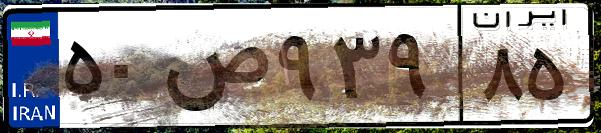0: (110, 28, 158, 98)
3: (330, 28, 385, 110)
5: (57, 26, 110, 100), (525, 38, 570, 115)
8: (475, 38, 525, 113)
9: (270, 28, 330, 110), (385, 28, 445, 110)
ص: (158, 20, 270, 120)
